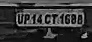1: (59, 14, 66, 27), (31, 14, 37, 25)
4: (36, 13, 44, 26)
6: (63, 12, 71, 25)
8: (70, 13, 77, 25), (77, 13, 83, 27)
C: (44, 13, 52, 25)
P: (24, 13, 30, 25)
T: (51, 13, 58, 26)
U: (17, 12, 24, 25)
